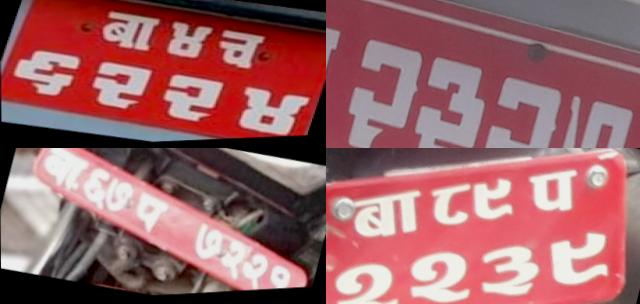1: (259, 260, 300, 292)
2: (326, 26, 431, 148), (467, 62, 572, 148), (76, 56, 160, 120), (149, 70, 235, 131), (402, 242, 481, 304), (326, 248, 408, 304), (235, 243, 273, 294), (215, 239, 249, 286)
3: (401, 43, 501, 148), (472, 233, 548, 304)
4: (227, 82, 316, 141), (156, 18, 221, 68)
6: (2, 44, 90, 106), (77, 162, 113, 213)
7: (538, 83, 640, 148), (180, 220, 228, 270), (100, 171, 140, 221)
8: (423, 177, 476, 239)
9: (536, 223, 624, 304), (465, 172, 526, 233)
ba: (347, 176, 426, 253), (92, 9, 166, 58), (33, 148, 91, 198)
cha: (208, 25, 274, 79), (326, 9, 347, 145)
pa: (520, 157, 594, 234), (128, 190, 174, 243)
